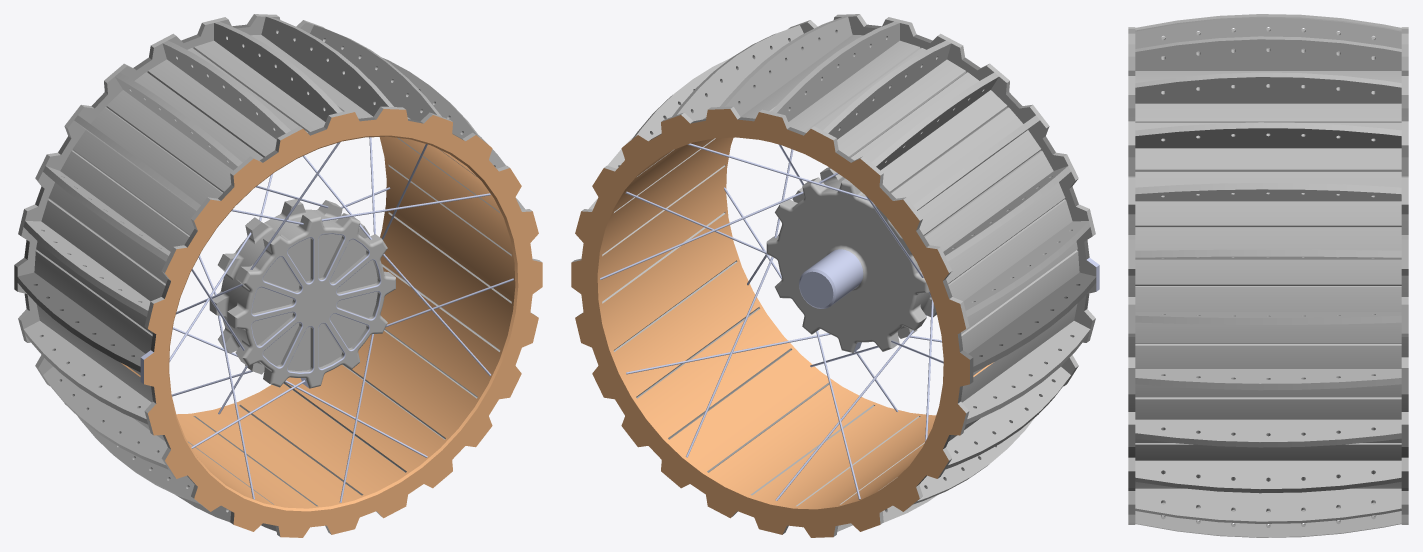
File: wheel_right.dae
The picture shows the model from 3 angles, left to right: view 1: azimuth 30°, elevation 25°; view 2: azimuth 150°, elevation 25°; view 3: azimuth 270°, elevation 25°; orthographic projection. The views are drawn at different scales.
Parts seen in each view (by area): view 1: _3DGeom-1200, _3DGeom-1203, _3DGeom-1201, _3DGeom-1202; view 2: _3DGeom-1200, _3DGeom-1203, _3DGeom-1201, _3DGeom-1202; view 3: _3DGeom-1200, _3DGeom-1202.
Boxes of the visible parts, x1,y1,x2,y2 form: _3DGeom-1200: [17, 14, 541, 536]; _3DGeom-1203: [121, 109, 542, 537]; _3DGeom-1201: [140, 137, 513, 502]; _3DGeom-1202: [14, 24, 463, 486]; _3DGeom-1200: [572, 14, 1096, 536]; _3DGeom-1203: [571, 109, 993, 537]; _3DGeom-1201: [600, 143, 1099, 500]; _3DGeom-1202: [650, 24, 1096, 486]; _3DGeom-1200: [1128, 14, 1408, 537]; _3DGeom-1202: [1128, 70, 1408, 490].
Bounding box in the file's own units: 0.4499 × 0.24 × 0.4499.
